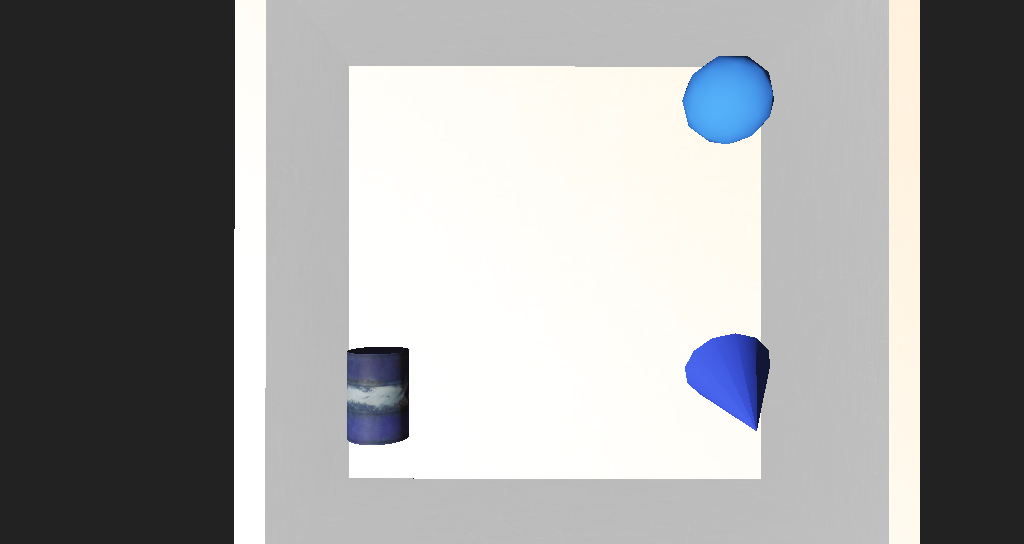cone: (350, 305, 404, 353)
cylinder: (603, 301, 677, 367)
sphere: (593, 160, 660, 203)
